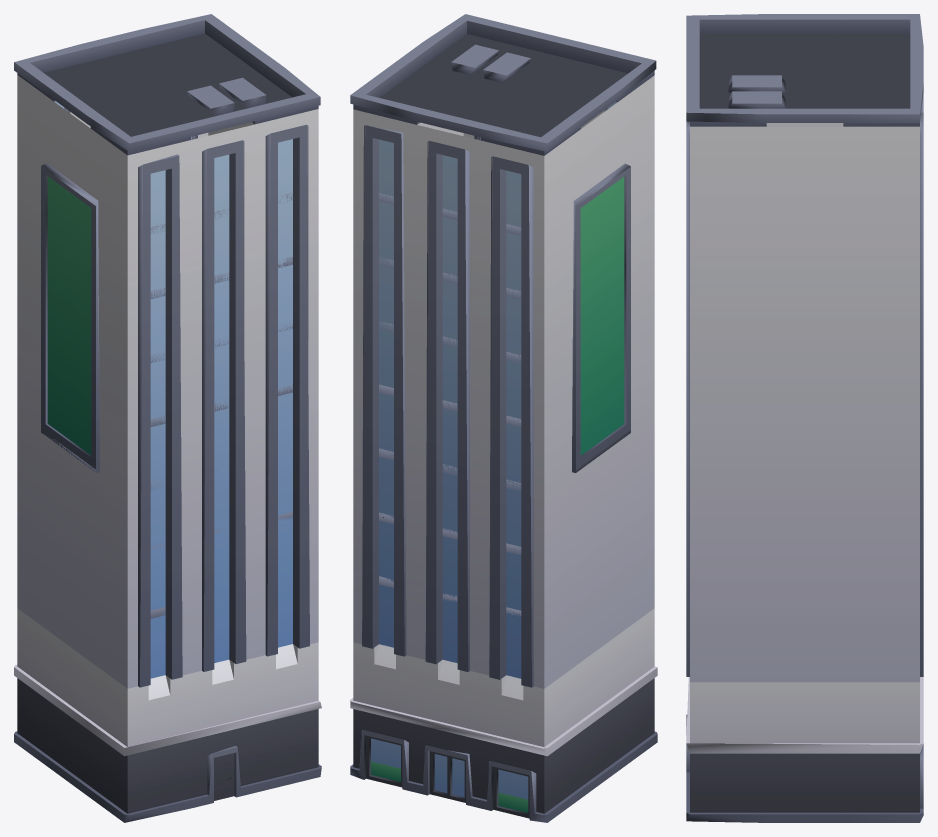
Rendered from 093_city-kit-commercial_building-skyscraper-e_card.glb.
The picture shows the model from 3 angles, left to right: view 1: azimuth 30°, elevation 25°; view 2: azimuth 150°, elevation 25°; view 3: azimuth 270°, elevation 25°; orthographic projection. The views are drawn at different scales.
Parts seen in each view (by area): view 1: building-skyscraper-e; view 2: building-skyscraper-e; view 3: building-skyscraper-e.
Boxes of the visible parts, x1,y1,x2,y2 form: building-skyscraper-e: (14, 14, 321, 822); building-skyscraper-e: (350, 14, 657, 822); building-skyscraper-e: (686, 14, 923, 822).
Bounding box in the file's own units: 1.24 × 4.08 × 1.24.
Materials: 1 (1 with a texture image).
